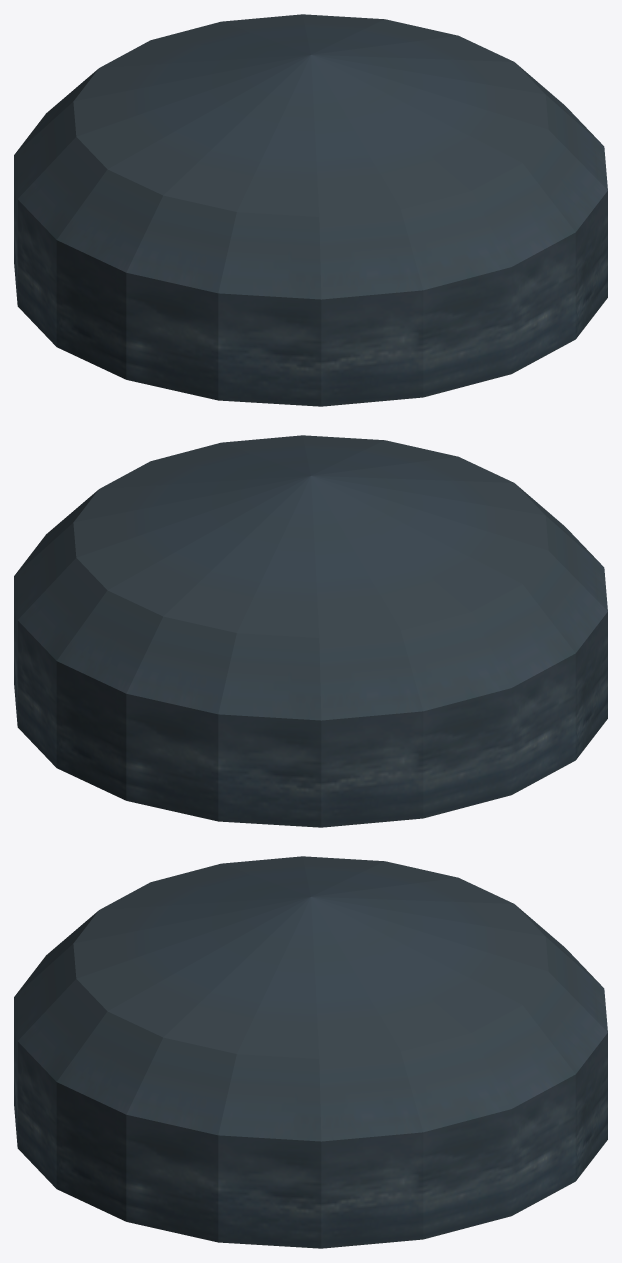
3 views of the same model, one above another, from view 1: azimuth 30°, elevation 25°; view 2: azimuth 150°, elevation 25°; view 3: azimuth 270°, elevation 25° (orthographic).
Parts seen in each view (by area): view 1: mesh00; view 2: mesh00; view 3: mesh00.
Part boxes in pixels (x1=…): mesh00: x1=14, y1=14, x2=607, y2=406; mesh00: x1=14, y1=435, x2=607, y2=827; mesh00: x1=14, y1=856, x2=607, y2=1248.
Bounding box in the file's own units: 105938 × 49931 × 104970.
1 material, 1 textured.
